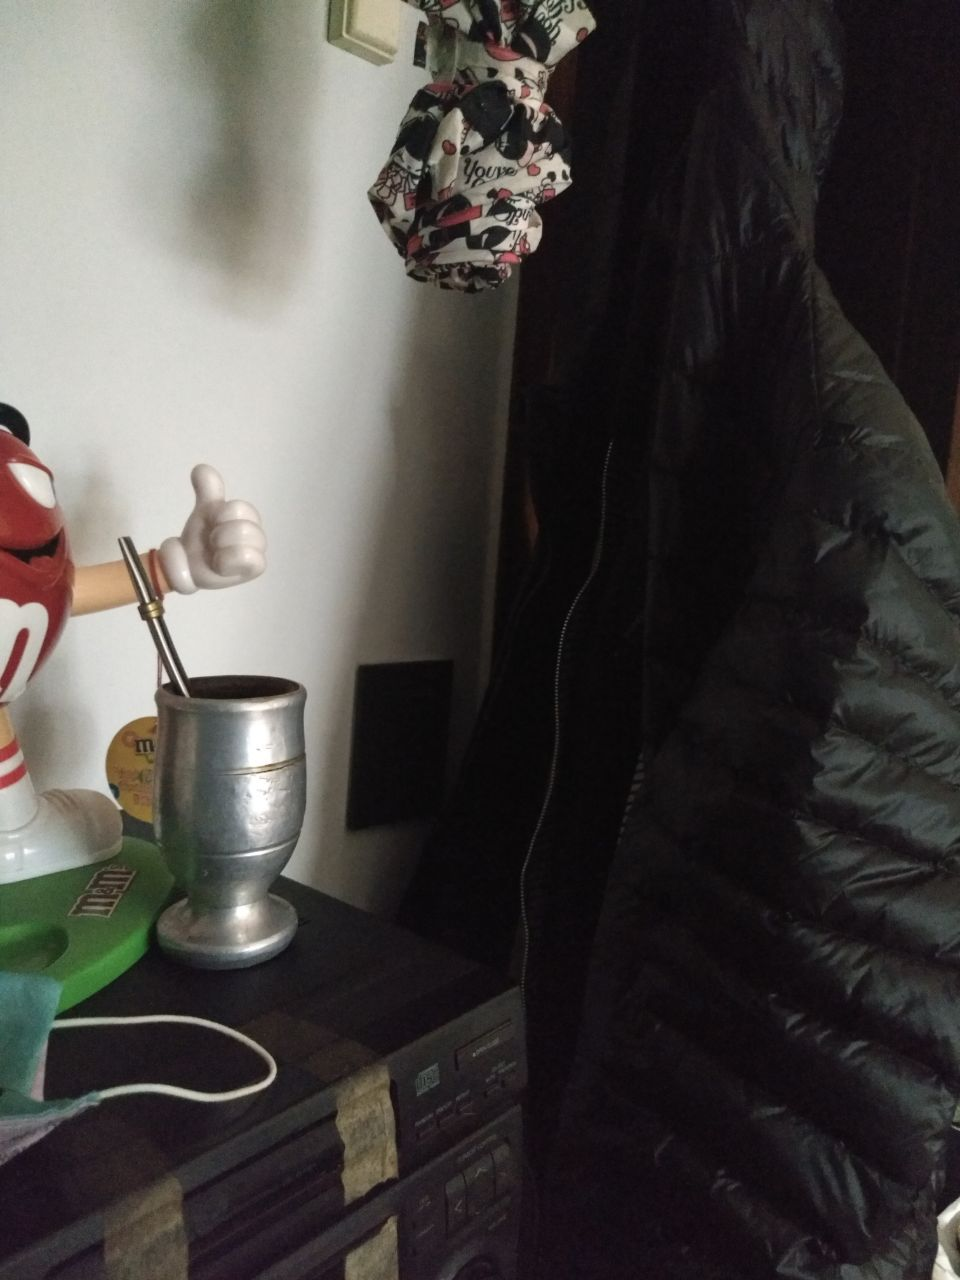mate: (115, 533, 309, 974)
metal: (113, 531, 307, 972)
